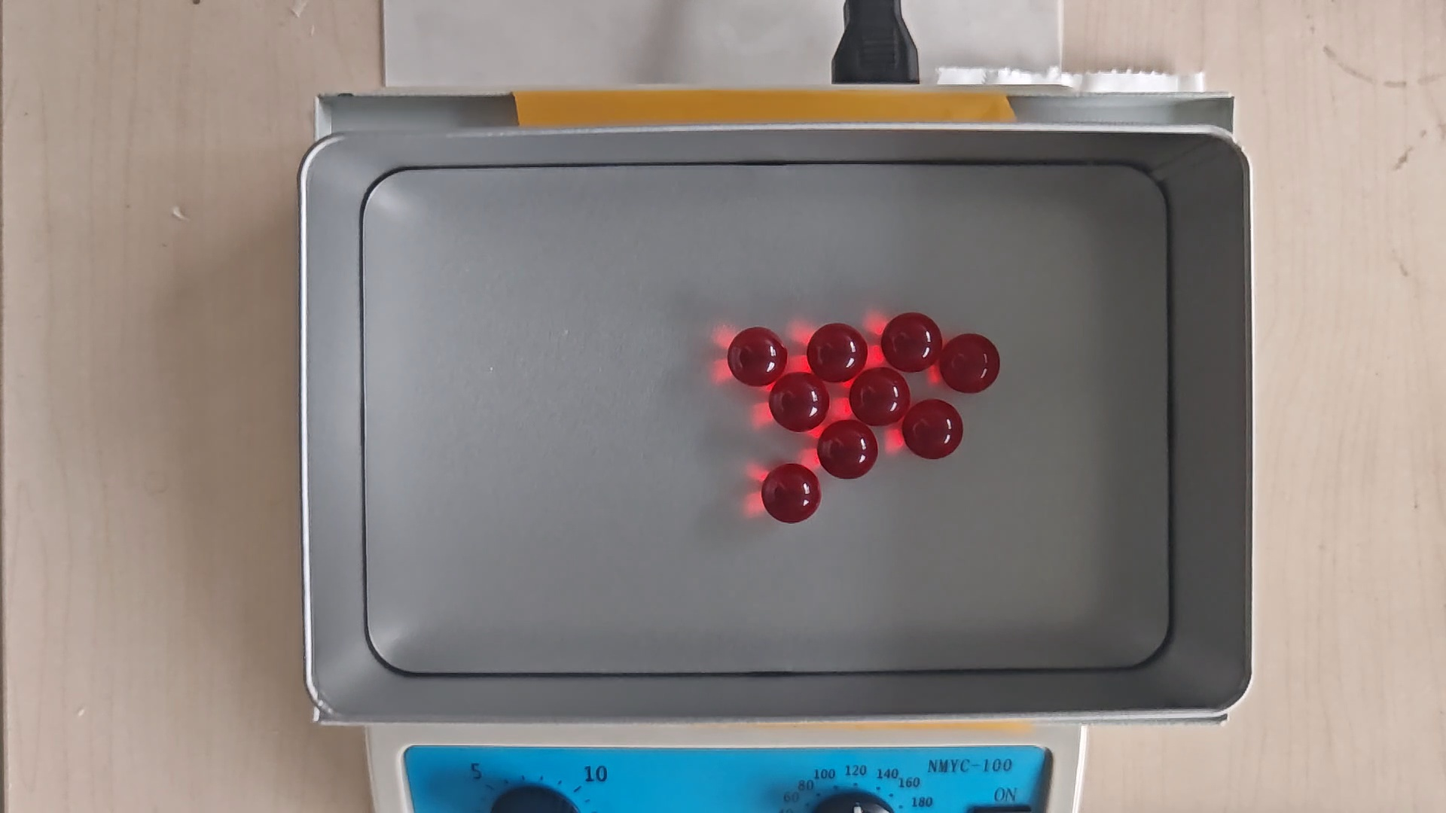ball: (761, 462, 823, 524), (941, 333, 1001, 395), (818, 420, 880, 480), (903, 399, 963, 460), (727, 326, 787, 387), (882, 312, 942, 372), (807, 322, 866, 382), (770, 372, 829, 432), (851, 368, 908, 425)
container: (360, 164, 1175, 672)
